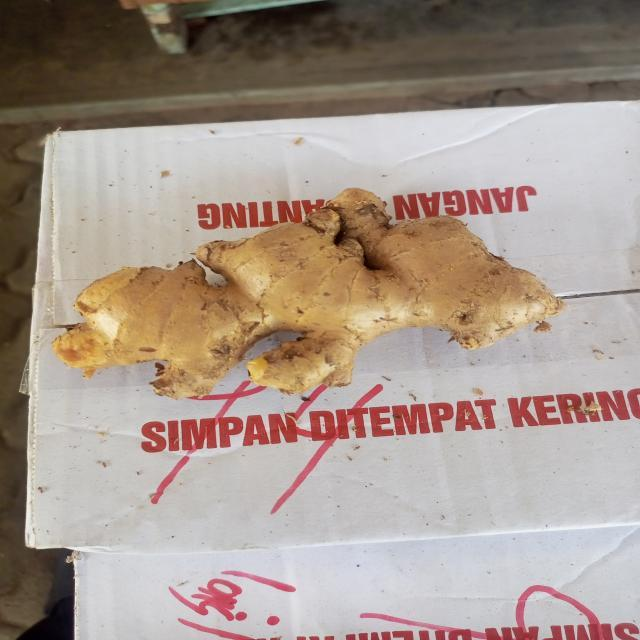ginger: (67, 204, 548, 385)
